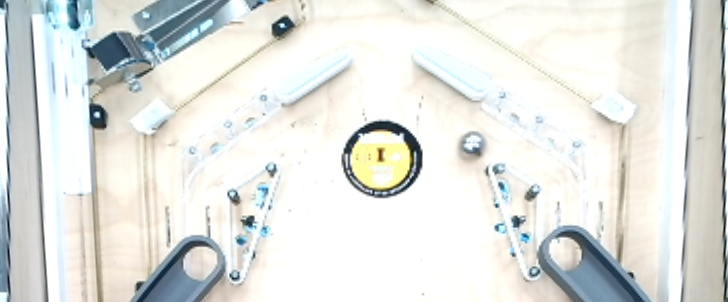ball: (456, 128, 491, 164)
flipper-left: (409, 39, 494, 102)
flipper-right: (267, 49, 357, 110)
